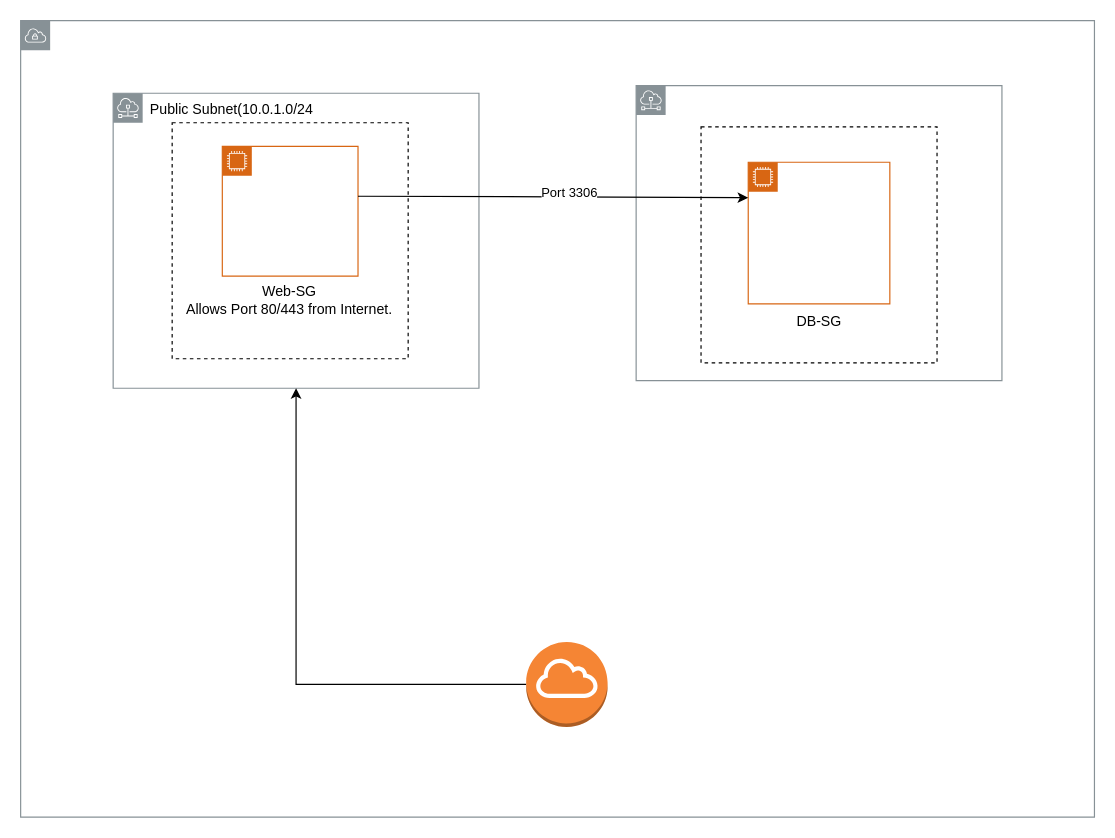
This 1115x838 diagram has some shape labels left out. The centre of each missing label's shape, as x and y in pixels:
"EC2 DB Server" goes at (x=818, y=232).
"EC2 Web Server" goes at (x=289, y=210).
